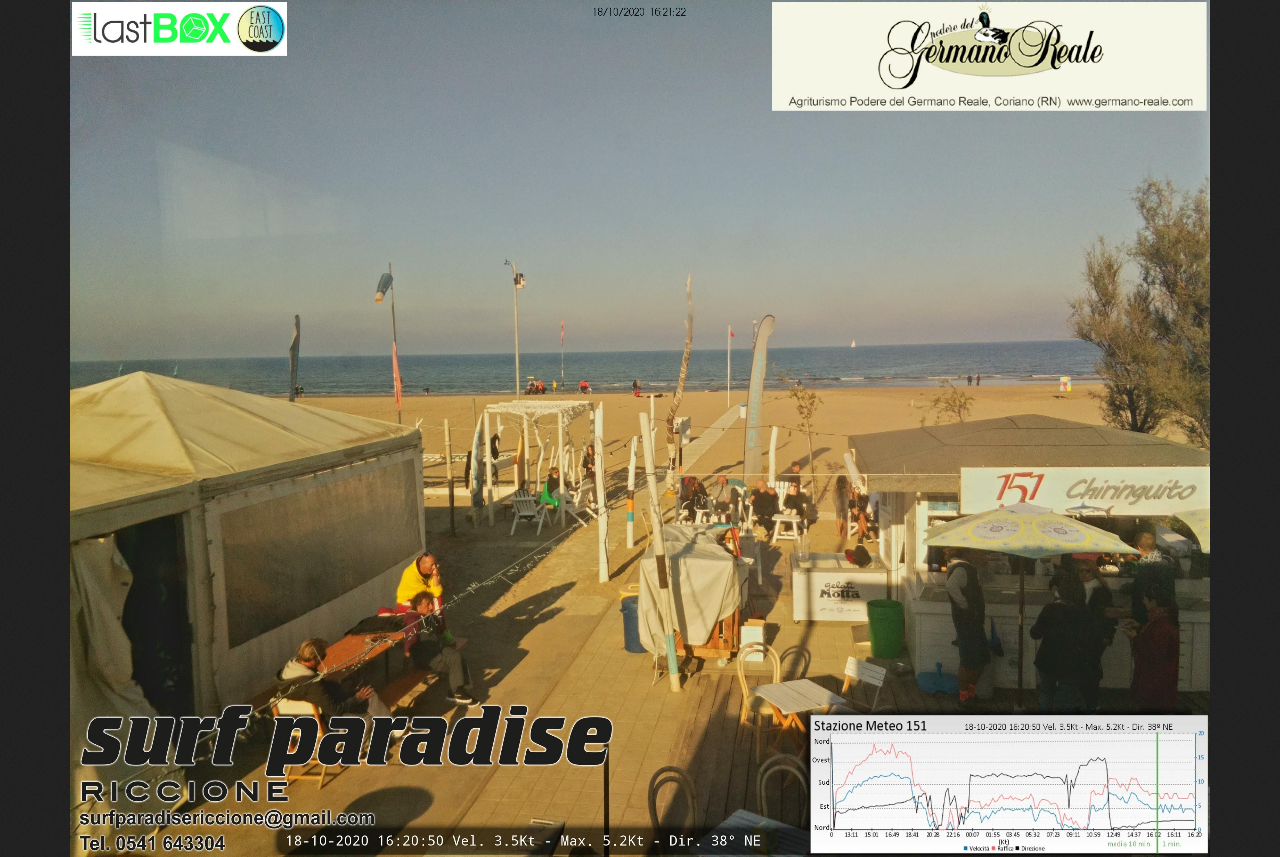no: (387, 341, 411, 415)
